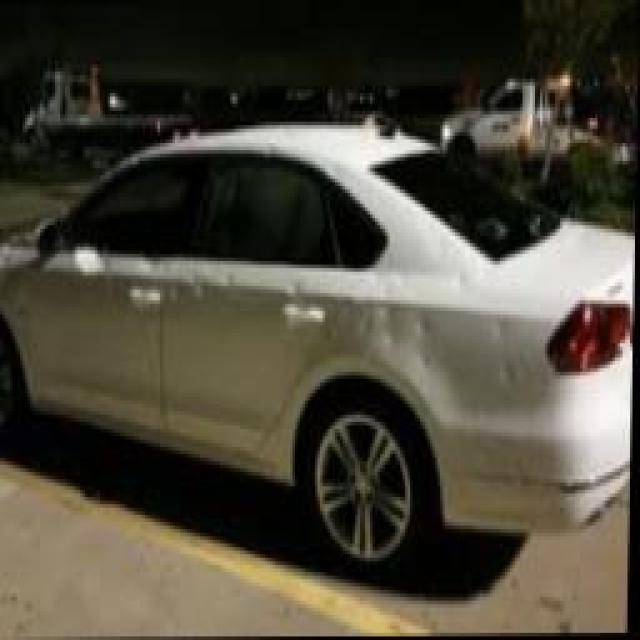Bonnet: (0, 215, 57, 254)
Door: (12, 234, 177, 435), (166, 260, 341, 432)
Fender: (330, 275, 562, 452), (0, 249, 39, 360)
